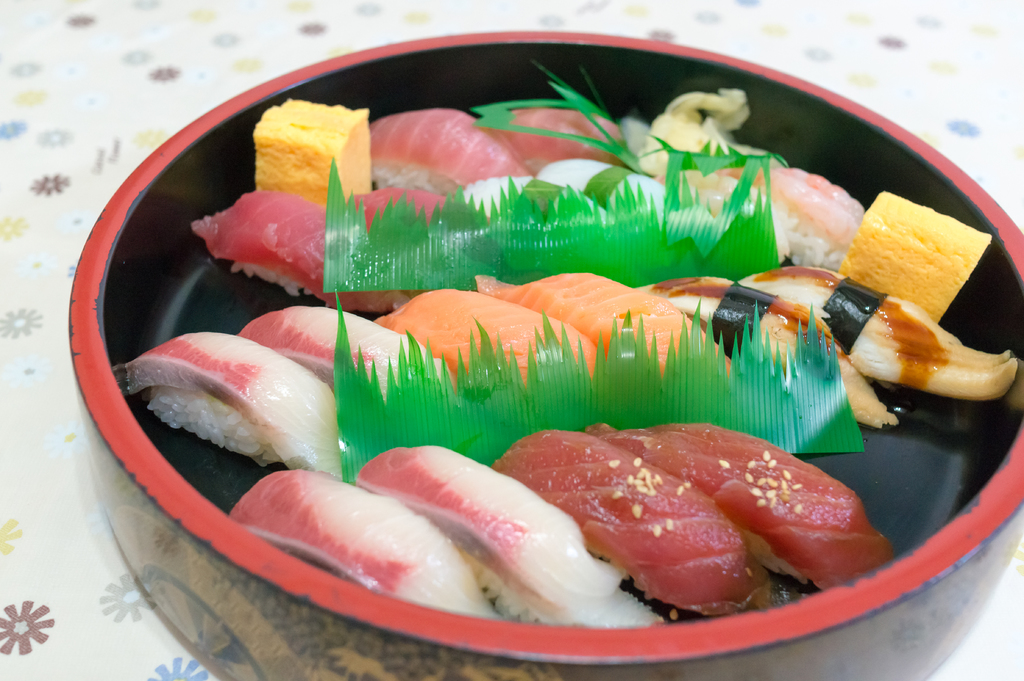sushi: (119, 92, 1015, 630), (120, 328, 344, 487)
